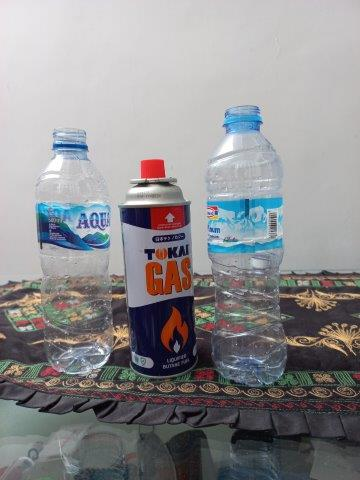botolplastik: (206, 104, 287, 386), (34, 128, 111, 375)
